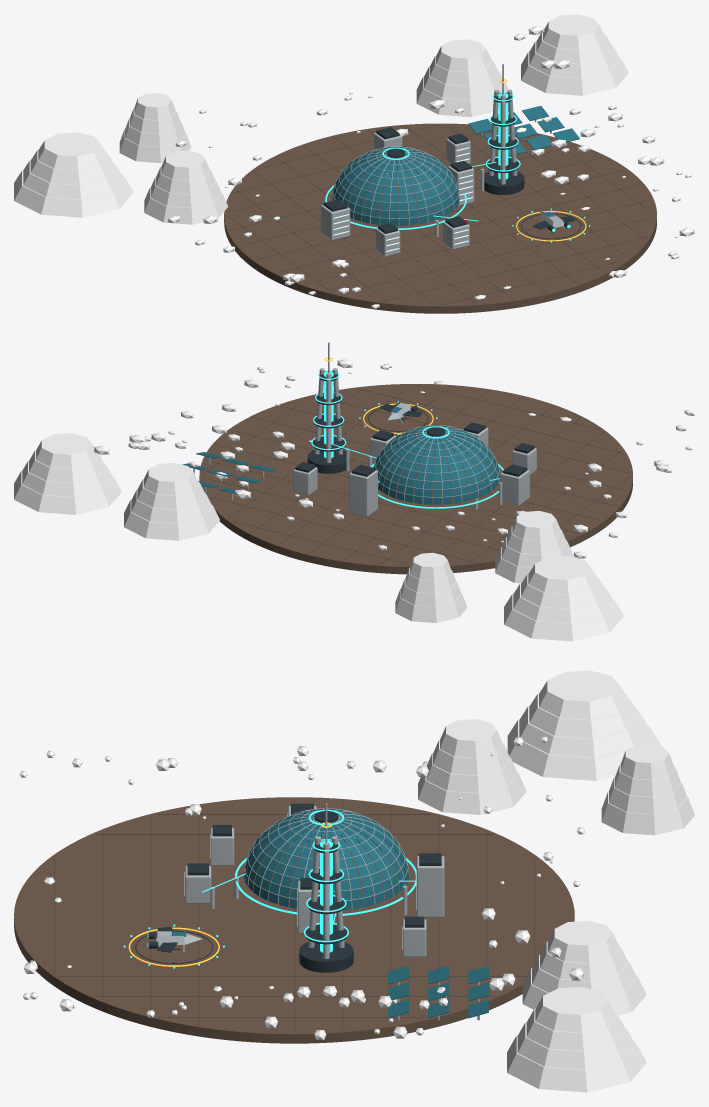
File: mars_deco.glb
The picture shows the model from 3 angles, top to bottom: view 1: azimuth 30°, elevation 25°; view 2: azimuth 150°, elevation 25°; view 3: azimuth 270°, elevation 25°; orthographic projection. The views are drawn at different scales.
Visible parts, largest first — view 1: V2 | Editable basalt terrace, Stratified sandstone escarpment, 02 | Giant photovoltaic dome, Dome titanium meridian, Arcology crown, Shuttle black cockpit, Main perimeter ion rail; view 2: V2 | Editable basalt terrace, Stratified sandstone escarpment, 02 | Giant photovoltaic dome, Dome titanium meridian, Arcology crown, Main perimeter ion rail, Shuttle black cockpit; view 3: V2 | Editable basalt terrace, Stratified sandstone escarpment, 02 | Giant photovoltaic dome, Dome titanium meridian, Arcology crown, Shuttle black cockpit, Main perimeter ion rail.
Boxes of the visible parts, bbox=[...] form: V2 | Editable basalt terrace: bbox=[224, 123, 656, 313]; Stratified sandstone escarpment: bbox=[14, 14, 694, 308]; 02 | Giant photovoltaic dome: bbox=[332, 147, 459, 225]; Dome titanium meridian: bbox=[321, 64, 567, 256]; Arcology crown: bbox=[228, 93, 653, 304]; Shuttle black cockpit: bbox=[468, 106, 579, 217]; Main perimeter ion rail: bbox=[325, 92, 590, 242]; V2 | Editable basalt terrace: bbox=[199, 384, 632, 574]; Stratified sandstone escarpment: bbox=[14, 359, 694, 641]; 02 | Giant photovoltaic dome: bbox=[373, 425, 499, 504]; Dome titanium meridian: bbox=[193, 342, 536, 516]; Arcology crown: bbox=[202, 371, 629, 564]; Main perimeter ion rail: bbox=[311, 370, 503, 508]; Shuttle black cockpit: bbox=[182, 407, 401, 493]; V2 | Editable basalt terrace: bbox=[14, 797, 574, 1043]; Stratified sandstone escarpment: bbox=[19, 670, 694, 1092]; 02 | Giant photovoltaic dome: bbox=[244, 808, 408, 910]; Dome titanium meridian: bbox=[159, 803, 479, 1020]; Arcology crown: bbox=[54, 799, 534, 1032]; Shuttle black cockpit: bbox=[171, 931, 488, 1018]; Main perimeter ion rail: bbox=[123, 809, 416, 968].
Size of the model in its own units: 112 by 23.3 by 85.
